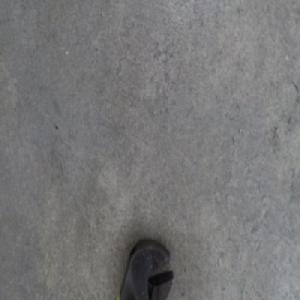AdjustableWrench: (116, 240, 174, 298)
